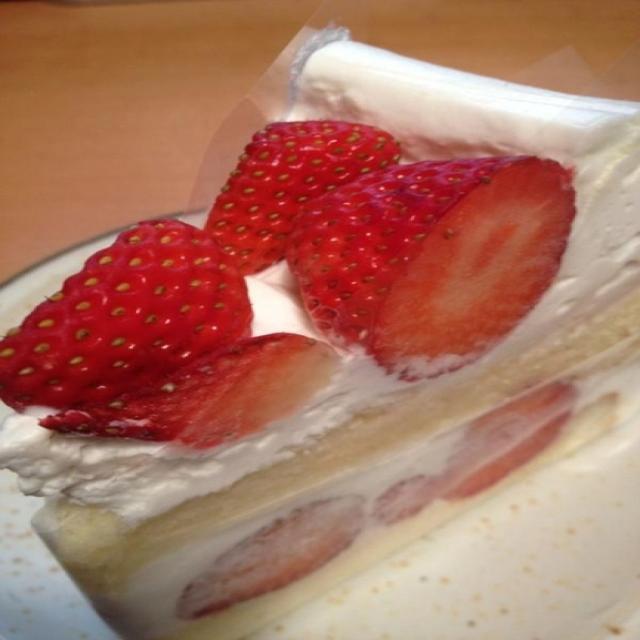蛋糕甜品: (8, 27, 632, 616)
